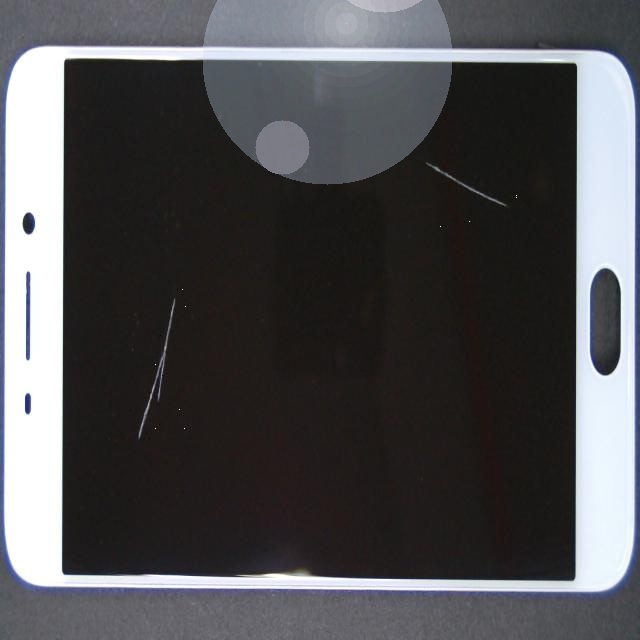scratch: (156, 60, 640, 289), (108, 68, 232, 501)
